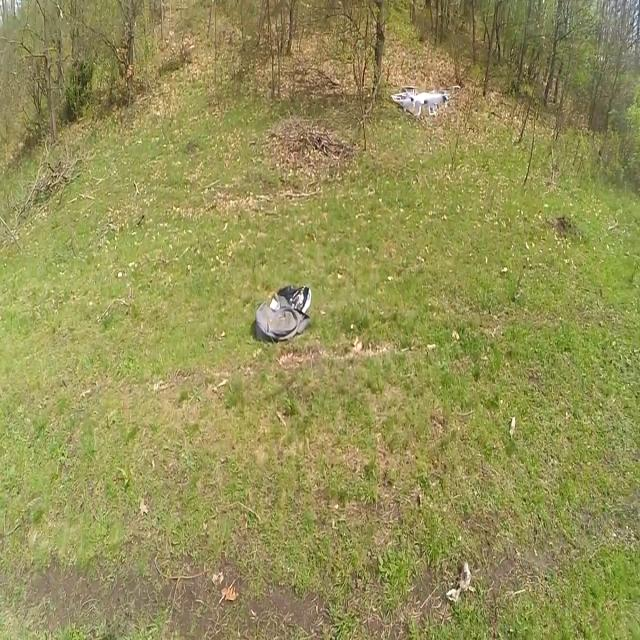drones: (387, 64, 461, 132)
